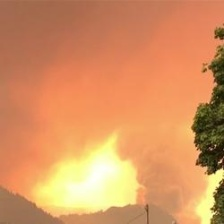fire: (23, 137, 145, 214), (201, 153, 224, 221)
